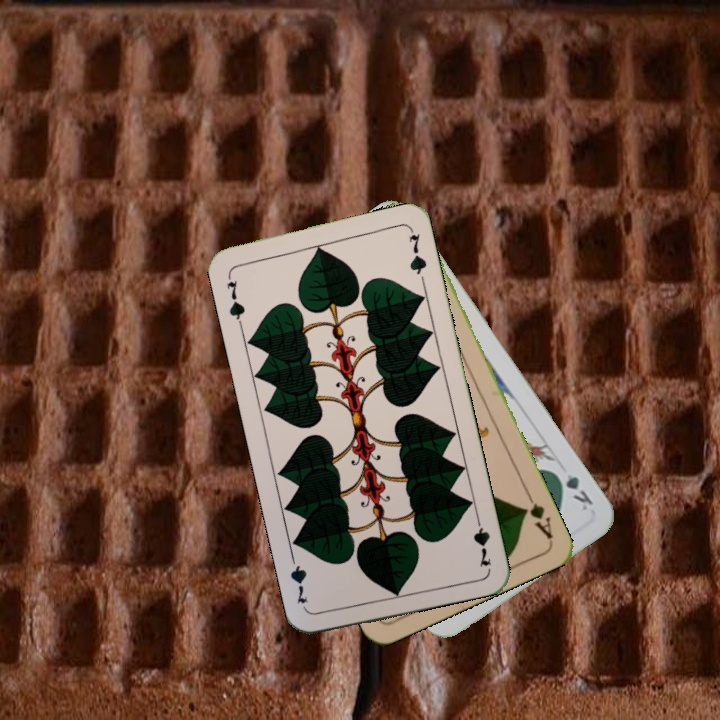G7: (222, 269, 248, 328), (469, 510, 494, 569)
GA: (519, 487, 555, 542)
GK: (549, 467, 596, 513)
